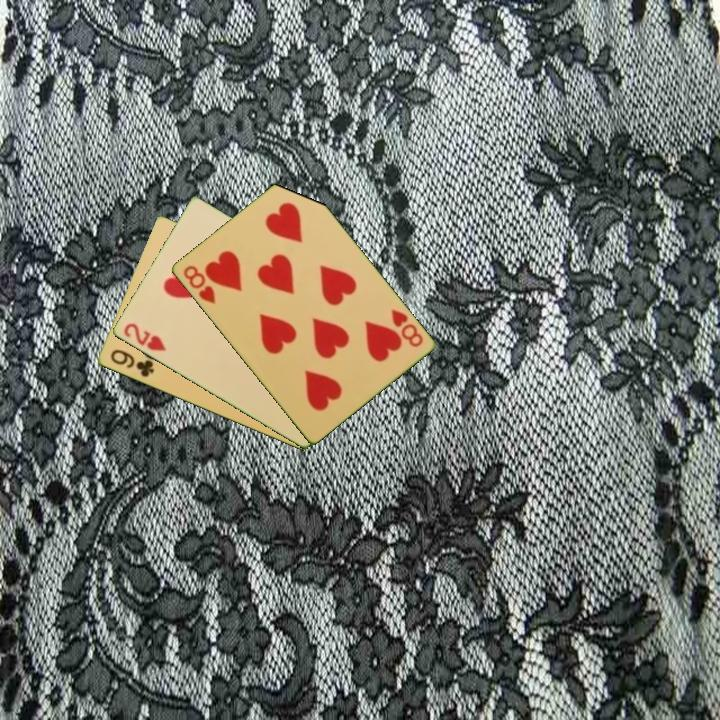2h: (120, 319, 168, 354)
8h: (179, 262, 218, 307), (387, 305, 426, 350)
9c: (106, 346, 157, 380)
